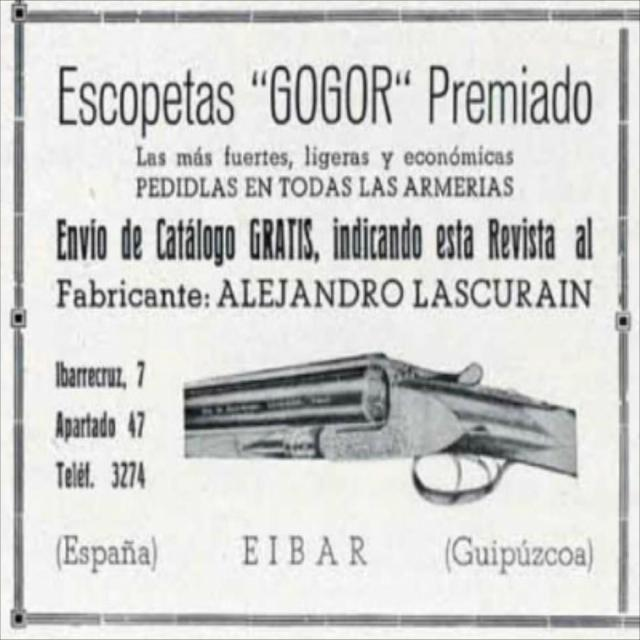weapon: (184, 352, 579, 504)
